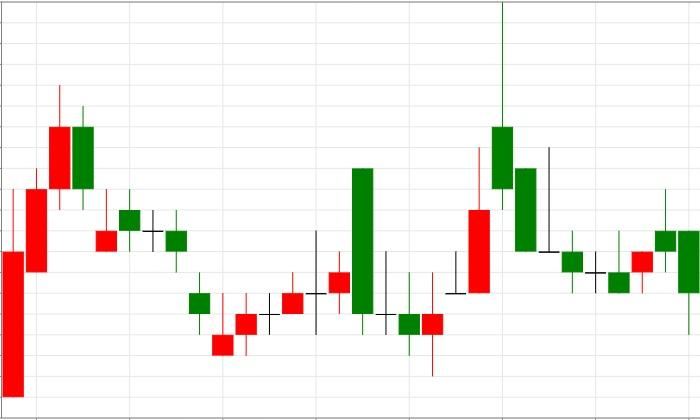bearish_engulfing_fall: (212, 168, 374, 357)
bullish_engulfing_rise: (351, 167, 443, 377)
inverse_hammer_rise: (491, 2, 631, 294), (118, 188, 234, 357), (48, 85, 118, 253)
shooting_star_fall: (421, 2, 513, 377)
